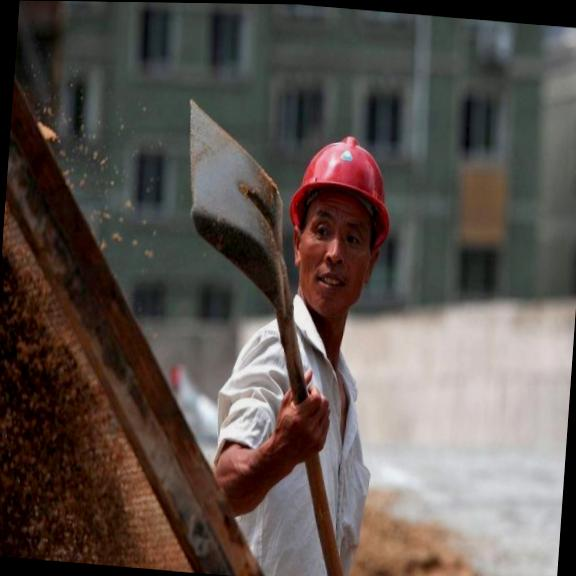no_safety_vest: (216, 300, 384, 576)
